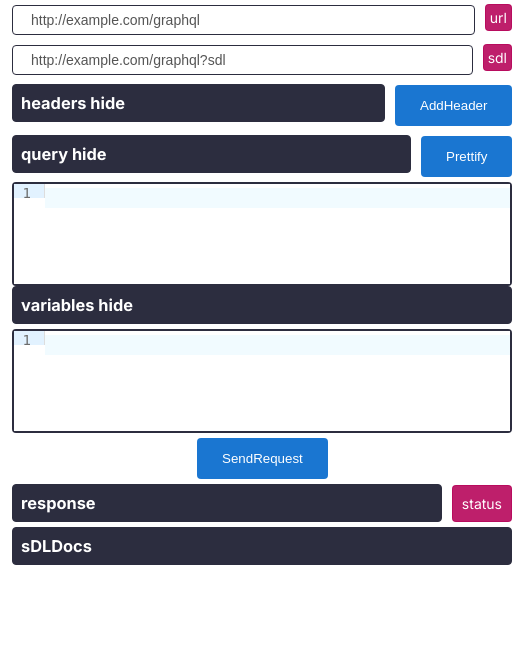
Test case: GraphiQLEditor › adds a new header when the button is clicked
expect the field with placeholder "headerKey" is not shown: met
What coordinates should you click on to do the following:
click the button "addHeader"
I would click on:
 (453, 106)
Its box is [395,85,512,126].
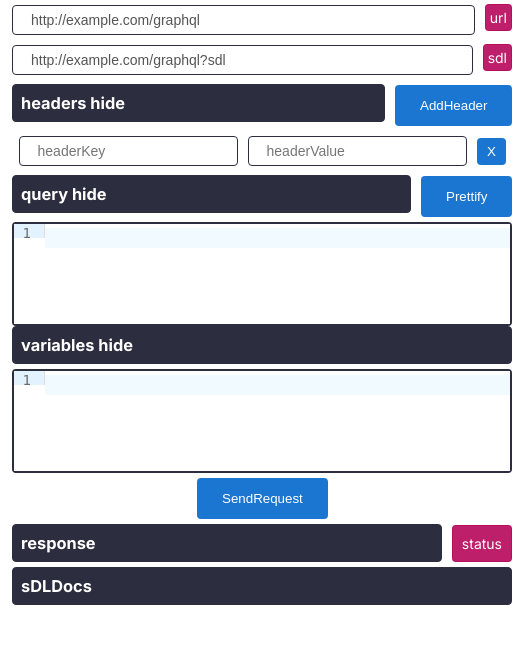
What coordinates should you click on to do the following:
click the button "addHeader"
I would click on:
 (453, 106)
Its box is [395,85,512,126].
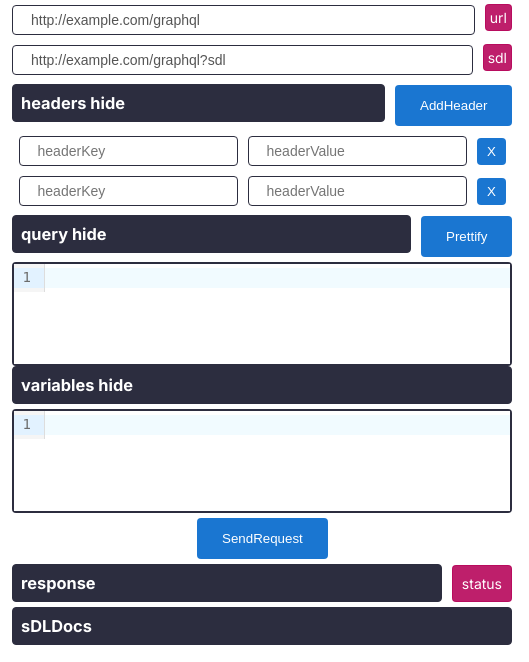
expect the 1st button with test id "btnDelHeader" is shown: met
expect the number of fields with placeholder "headerKey" is 2: met, box [18,136,238,166]; [18,176,238,206]
What coordinates should you click on to do the following:
click the 1st button with test id "btnDelHeader"
I would click on:
 (491, 151)
Its box is [476,138,505,164].
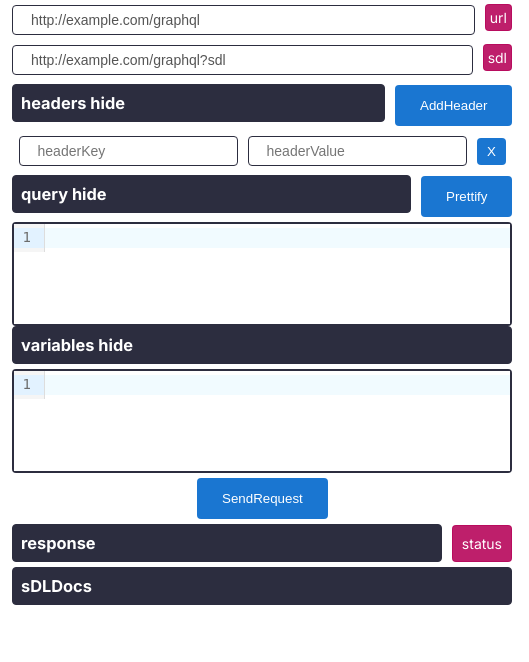
expect the number of fields with placeholder "headerKey" is 1: met, box [18,136,238,166]
